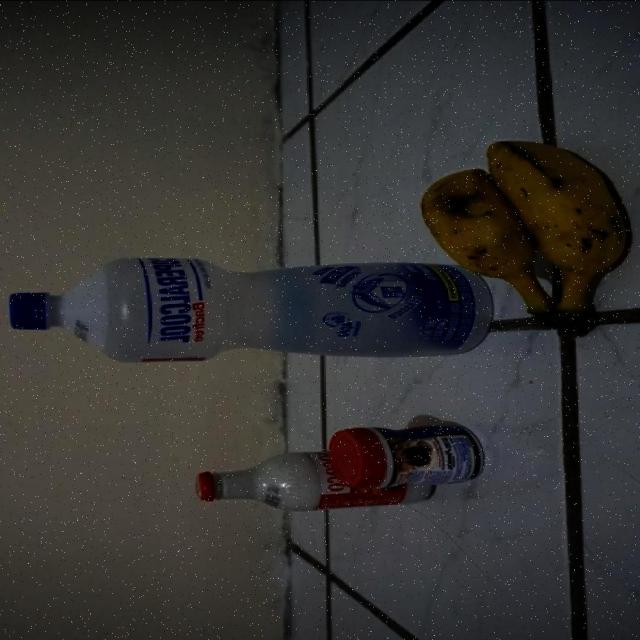AlcoholBottle: (3, 258, 409, 363)
Banana: (418, 143, 640, 339)
CoconutMilk: (193, 449, 324, 513)
Yeast: (327, 424, 482, 490)
